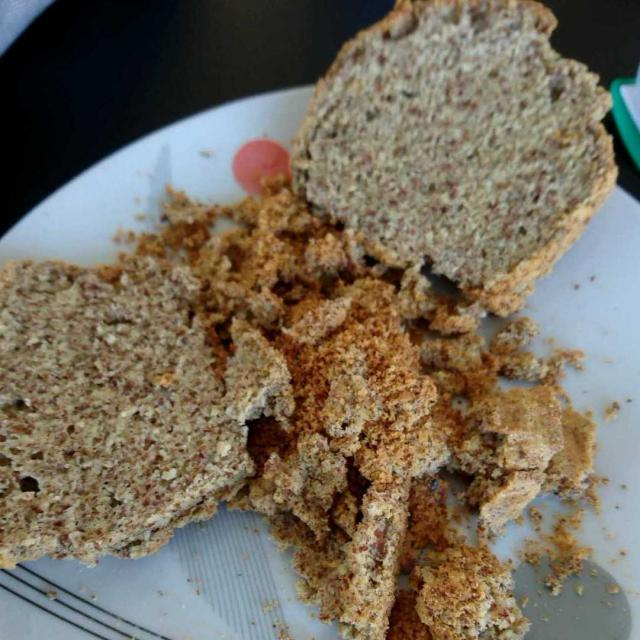gluten-free-bread: (4, 13, 601, 623)
